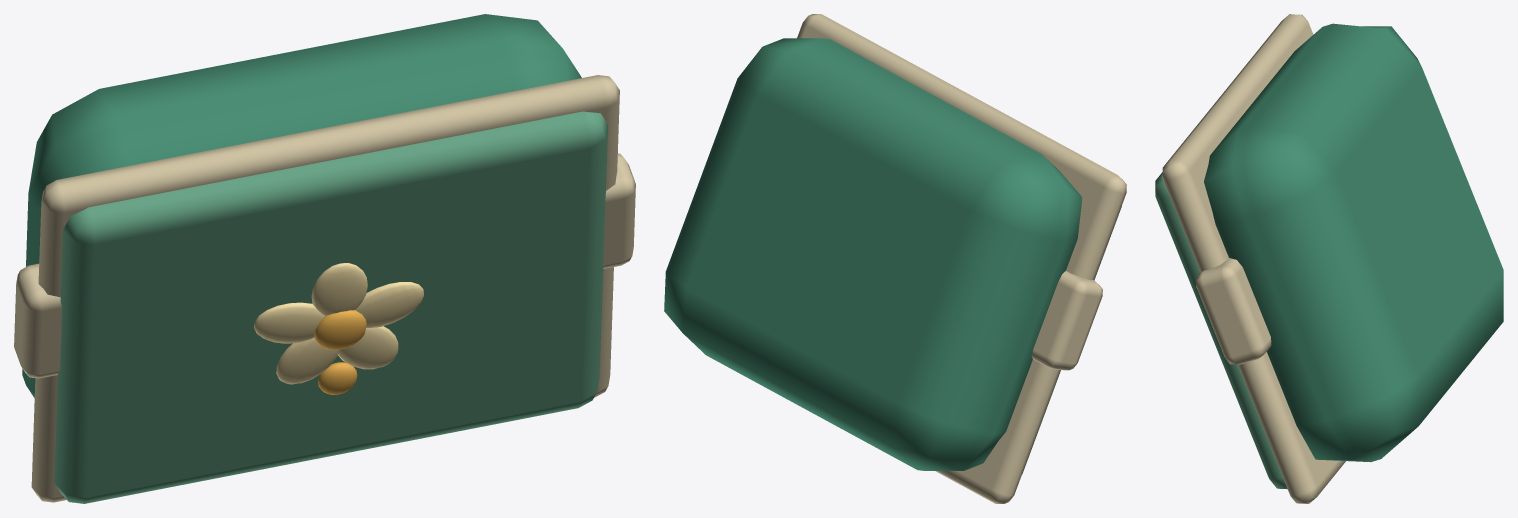
The model's file is lunch-tin.glb.
3 renders of one model, left to right at view 1: azimuth 30°, elevation 25°; view 2: azimuth 150°, elevation 25°; view 3: azimuth 270°, elevation 25°, orthographic. The views are drawn at different scales.
Visible parts, largest first — view 1: lunch-tin; view 2: lunch-tin; view 3: lunch-tin.
Part boxes in pixels (x1=…): lunch-tin: x1=14, y1=14, x2=635, y2=503; lunch-tin: x1=664, y1=14, x2=1126, y2=503; lunch-tin: x1=1155, y1=14, x2=1503, y2=503.
Bounding box in the file's own units: 0.8327 × 0.6346 × 0.5512.
